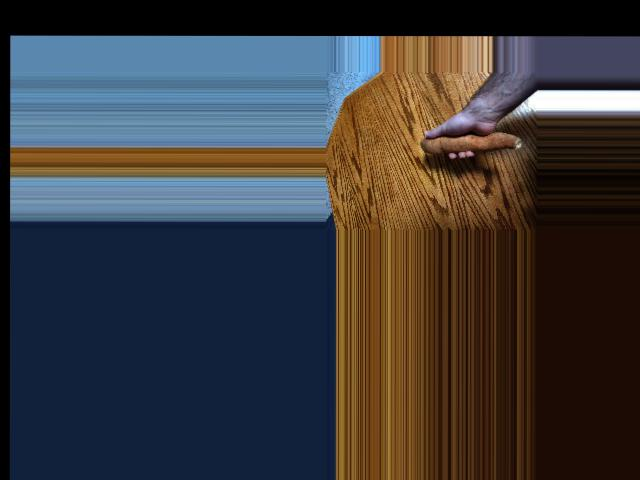sweet_potato: (413, 125, 523, 158)
